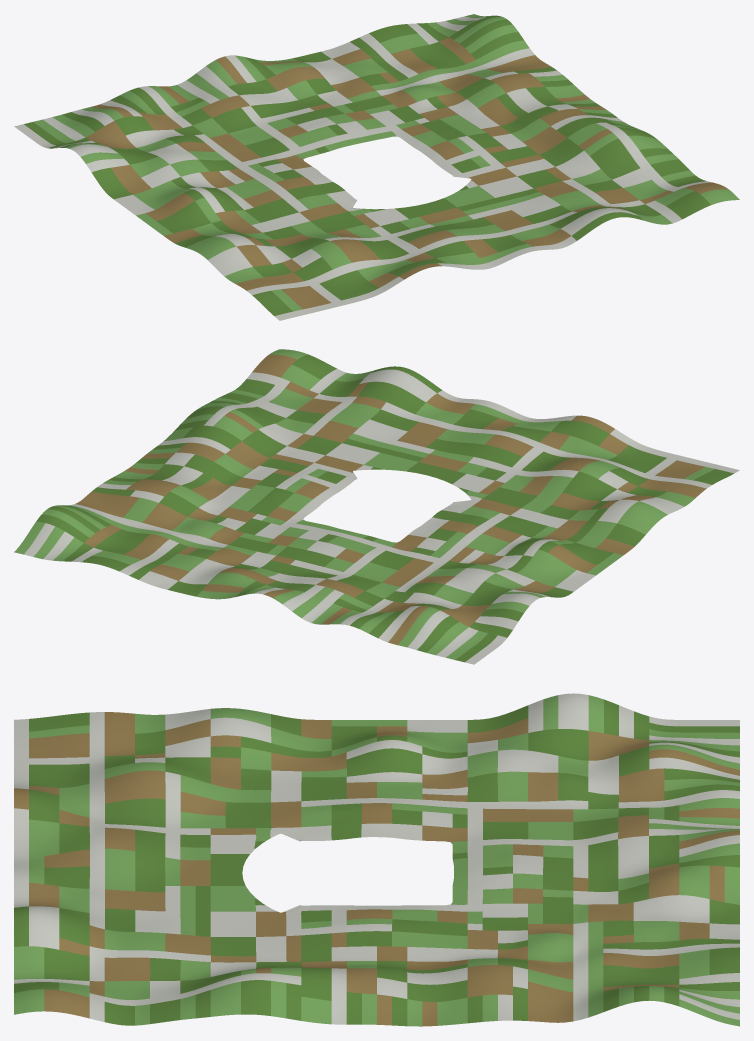
The model's file is terrain_hills_high.glb.
The picture shows the model from 3 angles, top to bottom: view 1: azimuth 30°, elevation 25°; view 2: azimuth 150°, elevation 25°; view 3: azimuth 270°, elevation 25°; orthographic projection. The views are drawn at different scales.
Parts seen in each view (by area): view 1: TERRAIN; view 2: TERRAIN; view 3: TERRAIN.
Boxes of the visible parts, x1=… form: TERRAIN: x1=14, y1=14, x2=739, y2=320; TERRAIN: x1=14, y1=349, x2=739, y2=664; TERRAIN: x1=14, y1=693, x2=739, y2=1026.
Size of the model in its own units: 1200 by 56.04 by 1200.
